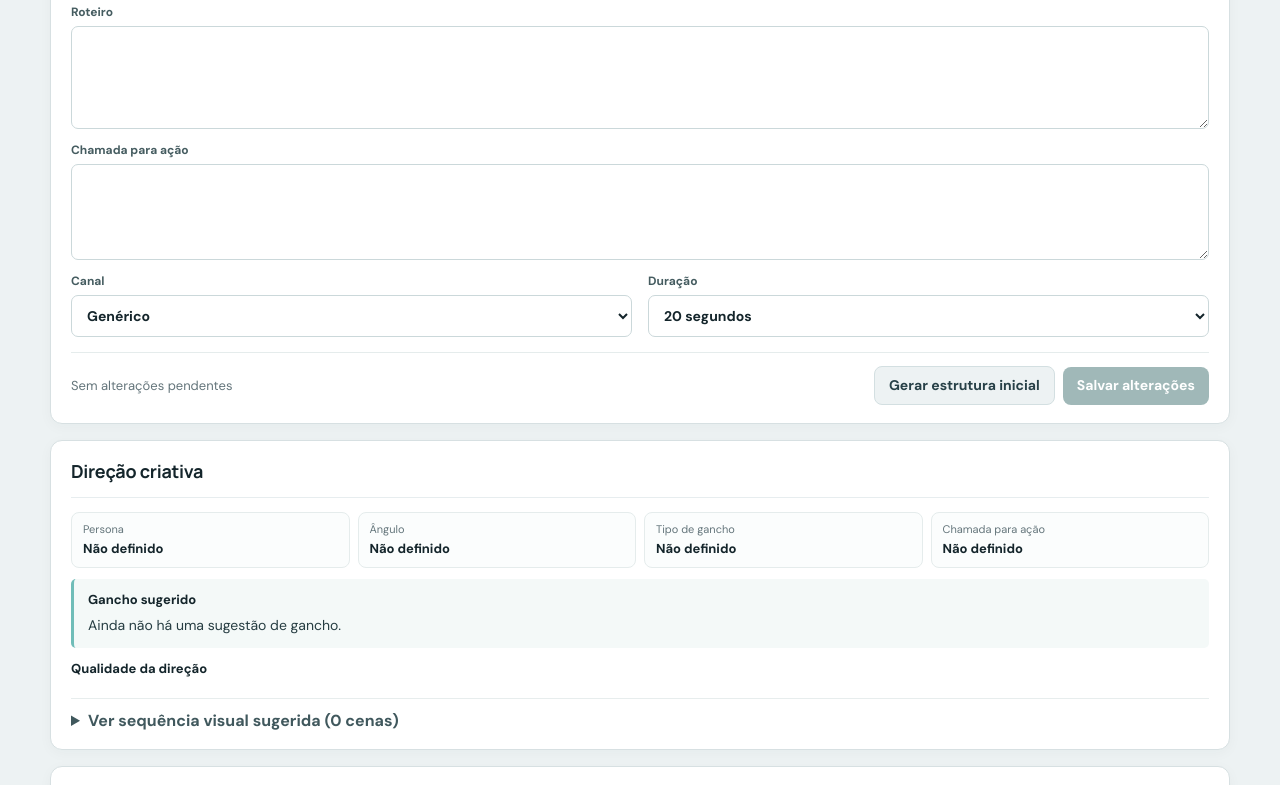
overwrite do template criativo › confirma overwrite inline, atualiza campos e cenas sem navegar ou rolar
The width and height of the screenshot is (1280, 785).
(page scrolled)
Click the button "Gerar estrutura inicial". click: (964, 386)
box: [874,366,1055,405]
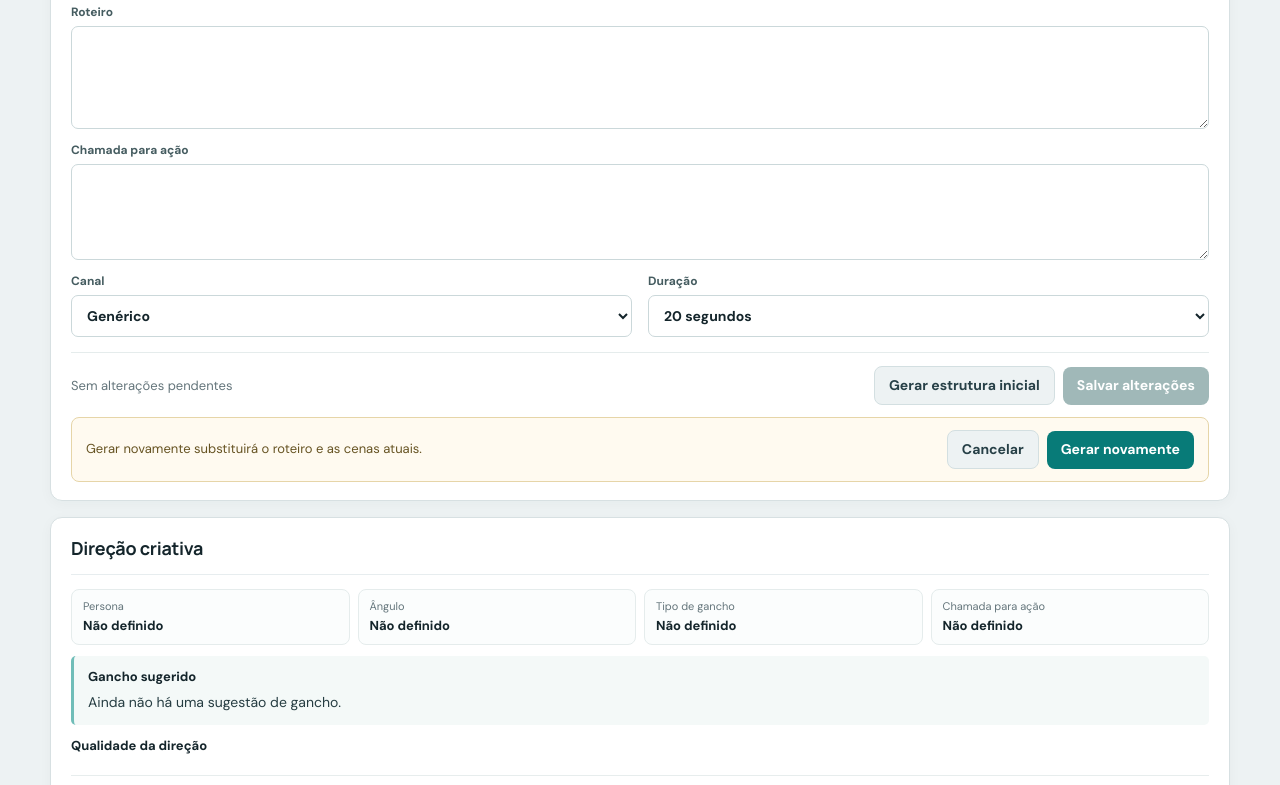
Click the button "Gerar novamente". click: (1120, 450)
box: [1047,431,1194,469]
(page scrolled)
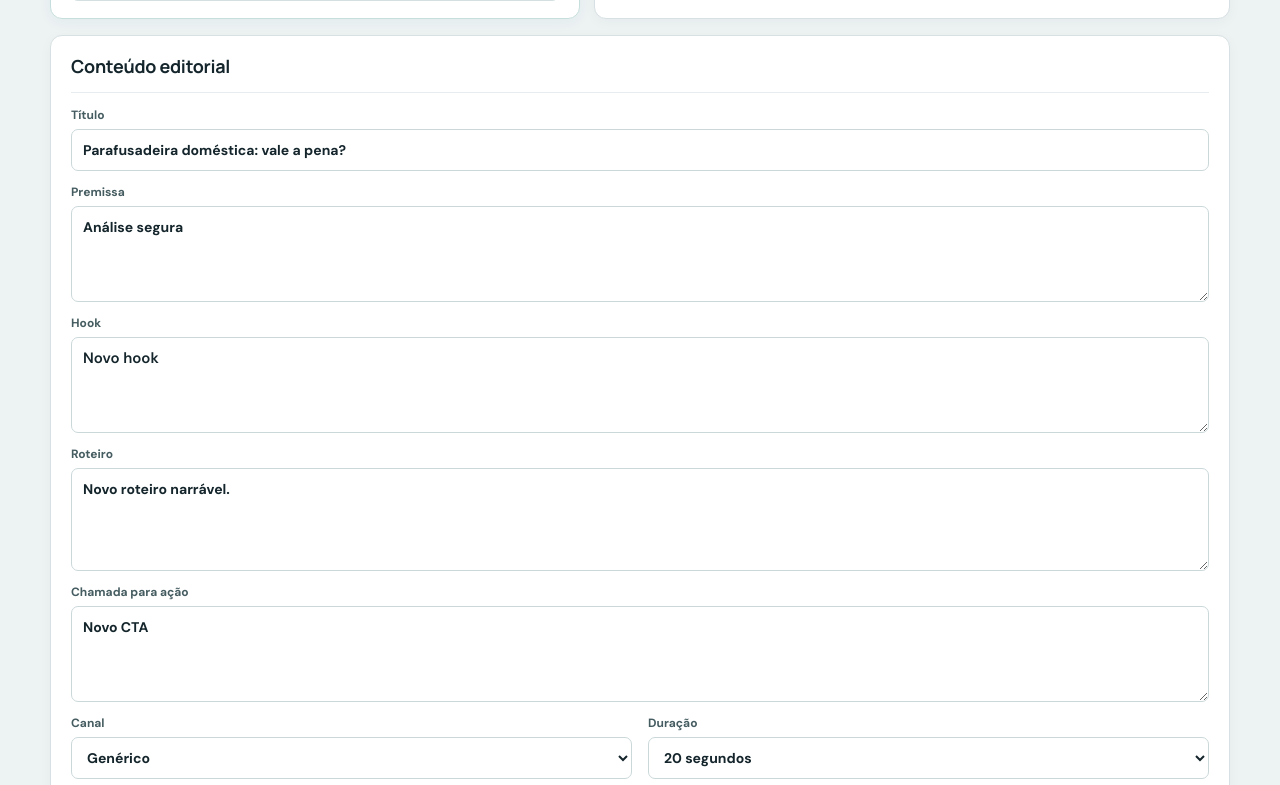
Check: the field showing "Parafusadeira doméstica: vale a pena?" is shown, box [71,129,1209,171]
Check: the text box "Novo hook" is shown, box [71,337,1209,433]
